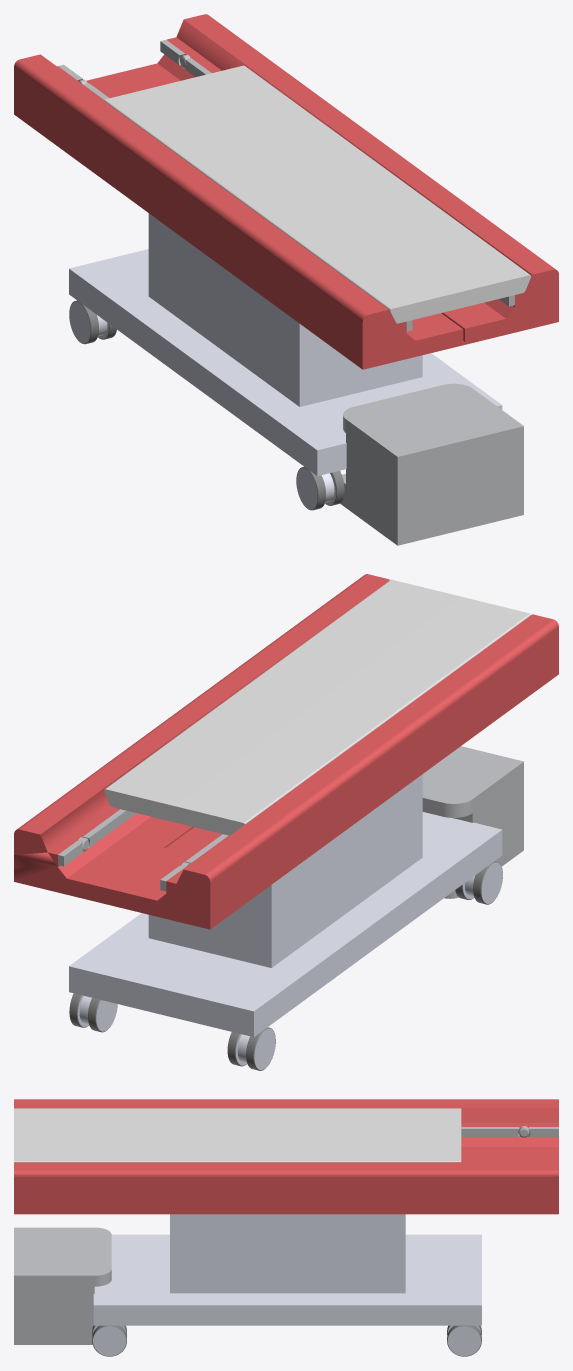
File: patientBed.fbx
The picture shows the model from 3 angles, top to bottom: view 1: azimuth 30°, elevation 25°; view 2: azimuth 150°, elevation 25°; view 3: azimuth 270°, elevation 25°; orthographic projection. The views are drawn at different scales.
Visible parts, largest first — view 1: Liege_Aufbau_ipt, tabletop, Body_1, Sensorkasten_ipt, 3DGeom-33_3, 3DGeom-33, 3DGeom-34_3; view 2: Liege_Aufbau_ipt, Body_1, tabletop, Sensorkasten_ipt, 3DGeom-33, 3DGeom-33_3, 3DGeom-33_2, Seitenfuehrung_Liege_ipt_5_, 3DGeom-34, 3DGeom-34_2; view 3: Body_1, Liege_Aufbau_ipt, tabletop, Sensorkasten_ipt, 3DGeom-33_4, 3DGeom-33_2, Seitenfuehrung_Liege_rechts_ipt_5_.
Part boxes in pixels (x1=…): Liege_Aufbau_ipt: x1=14, y1=14, x2=558, y2=369; tabletop: x1=104, y1=65, x2=531, y2=323; Body_1: x1=69, y1=213, x2=502, y2=475; Sensorkasten_ipt: x1=340, y1=383, x2=523, y2=545; 3DGeom-33_3: x1=296, y1=468, x2=336, y2=509; 3DGeom-33: x1=69, y1=301, x2=109, y2=343; 3DGeom-34_3: x1=296, y1=466, x2=344, y2=510; Liege_Aufbau_ipt: x1=14, y1=574, x2=558, y2=929; Body_1: x1=69, y1=774, x2=502, y2=1037; tabletop: x1=104, y1=579, x2=531, y2=835; Sensorkasten_ipt: x1=422, y1=746, x2=523, y2=898; 3DGeom-33: x1=236, y1=1028, x2=275, y2=1070; 3DGeom-33_3: x1=463, y1=862, x2=502, y2=903; 3DGeom-33_2: x1=77, y1=995, x2=117, y2=1031; Seitenfuehrung_Liege_ipt_5_: x1=83, y1=809, x2=136, y2=847; 3DGeom-34: x1=227, y1=1027, x2=275, y2=1070; 3DGeom-34_2: x1=69, y1=993, x2=117, y2=1032; Body_1: x1=93, y1=1214, x2=481, y2=1325; Liege_Aufbau_ipt: x1=14, y1=1099, x2=558, y2=1214; tabletop: x1=14, y1=1108, x2=461, y2=1162; Sensorkasten_ipt: x1=14, y1=1227, x2=111, y2=1344; 3DGeom-33_4: x1=93, y1=1325, x2=126, y2=1356; 3DGeom-33_2: x1=447, y1=1325, x2=481, y2=1356; Seitenfuehrung_Liege_rechts_ipt_5_: x1=461, y1=1127, x2=519, y2=1136.
Size of the model in its own units: 76.3 by 88.95 by 235.
